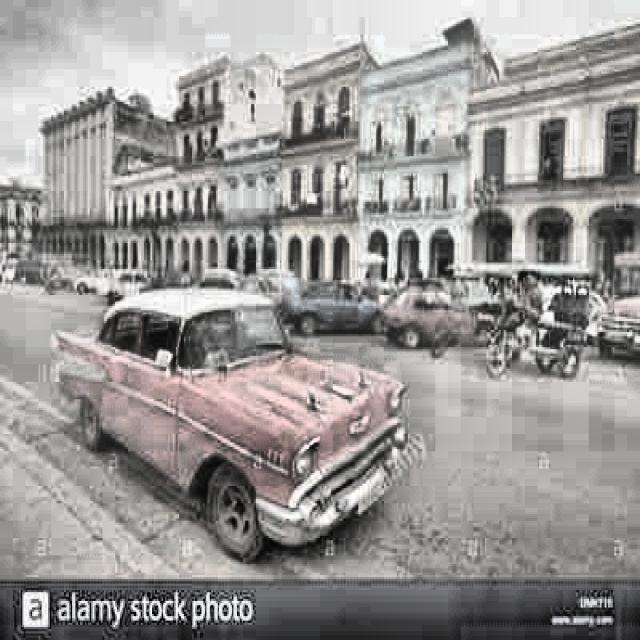license_plate: (347, 474, 403, 518)
